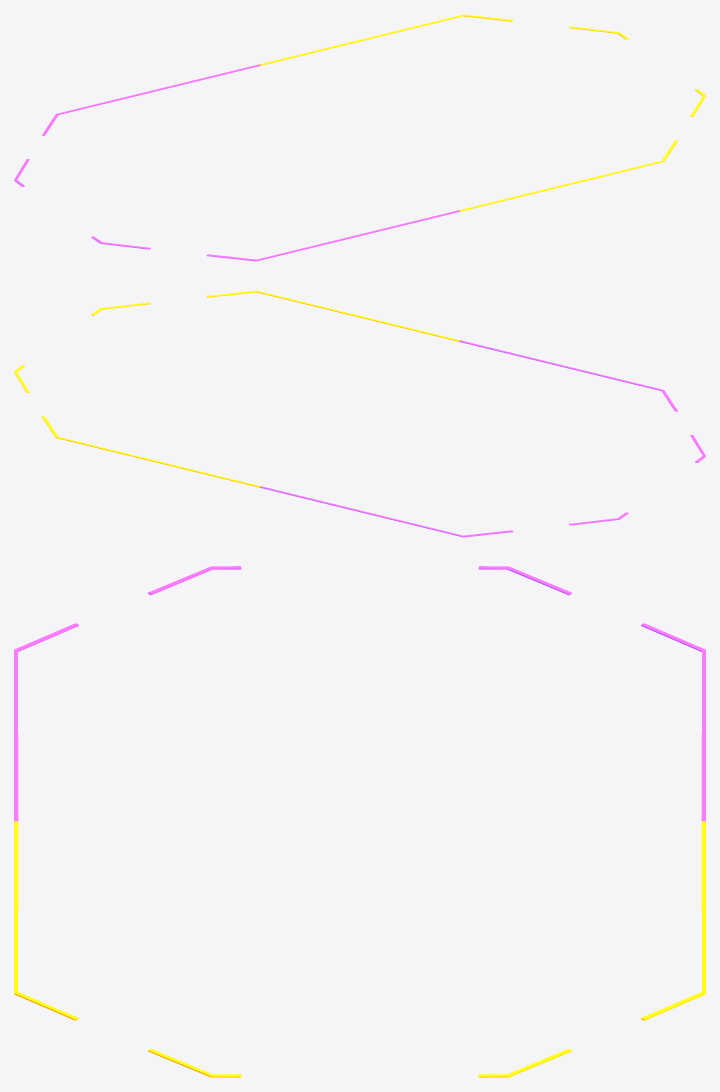
The model's file is mesh_Factory_HockeyFloor_E.fbx.
The picture shows the model from 3 angles, top to bottom: view 1: azimuth 30°, elevation 25°; view 2: azimuth 150°, elevation 25°; view 3: azimuth 270°, elevation 25°; orthographic projection. The views are drawn at different scales.
Parts seen in each view (by area): view 1: mesh_Factory_Hockey_WallsWithGoals.002, mesh_Factory_Hockey_WallsWithGoals.003; view 2: mesh_Factory_Hockey_WallsWithGoals.002, mesh_Factory_Hockey_WallsWithGoals.003; view 3: mesh_Factory_Hockey_WallsWithGoals.002, mesh_Factory_Hockey_WallsWithGoals.003.
Part boxes in pixels (x1,y1,x2,y2): mesh_Factory_Hockey_WallsWithGoals.002: (91, 89, 705, 261); mesh_Factory_Hockey_WallsWithGoals.003: (14, 14, 628, 186); mesh_Factory_Hockey_WallsWithGoals.002: (91, 290, 705, 462); mesh_Factory_Hockey_WallsWithGoals.003: (14, 365, 628, 537); mesh_Factory_Hockey_WallsWithGoals.002: (14, 566, 241, 1077); mesh_Factory_Hockey_WallsWithGoals.003: (478, 566, 705, 1077).
Size of the model in its own units: 58.63 by 0.0659 by 33.58.
